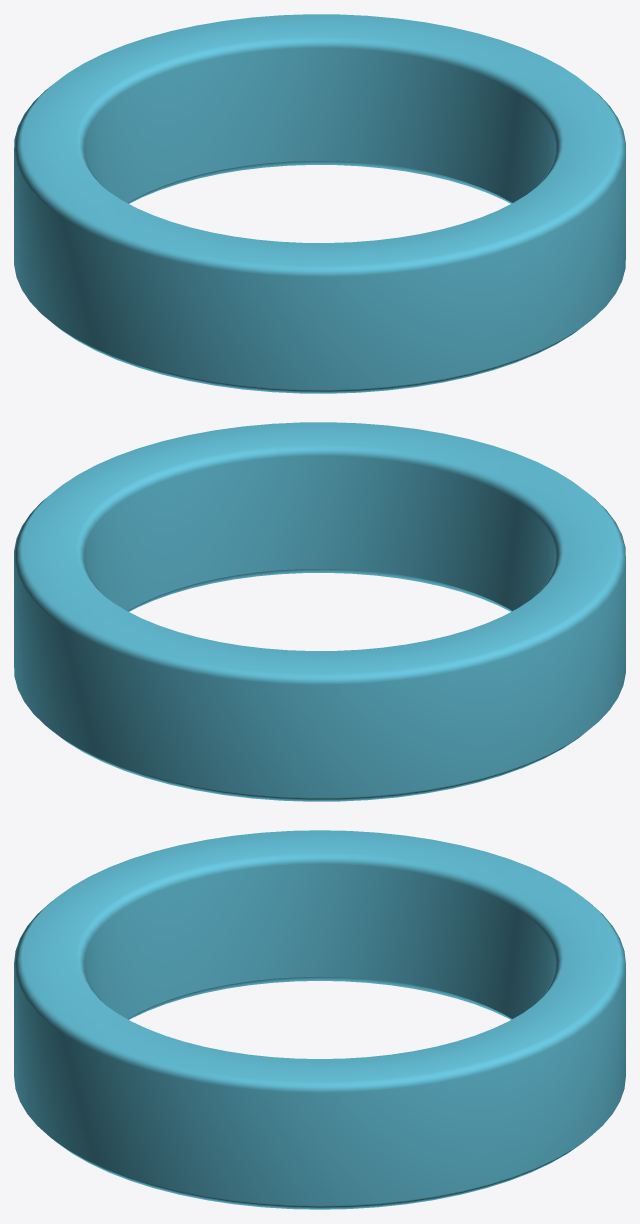
3 views of the same model, one above another, from view 1: azimuth 30°, elevation 25°; view 2: azimuth 150°, elevation 25°; view 3: azimuth 270°, elevation 25° (orthographic).
Parts seen in each view (by area): view 1: seal_body; view 2: seal_body; view 3: seal_body.
Part boxes in pixels (left/top/right/bottom): seal_body: left=14, top=14, right=625, bottom=393; seal_body: left=14, top=422, right=625, bottom=801; seal_body: left=14, top=830, right=625, bottom=1209.
Bounding box in the file's own units: 0.0413 × 0.00952 × 0.0413.
